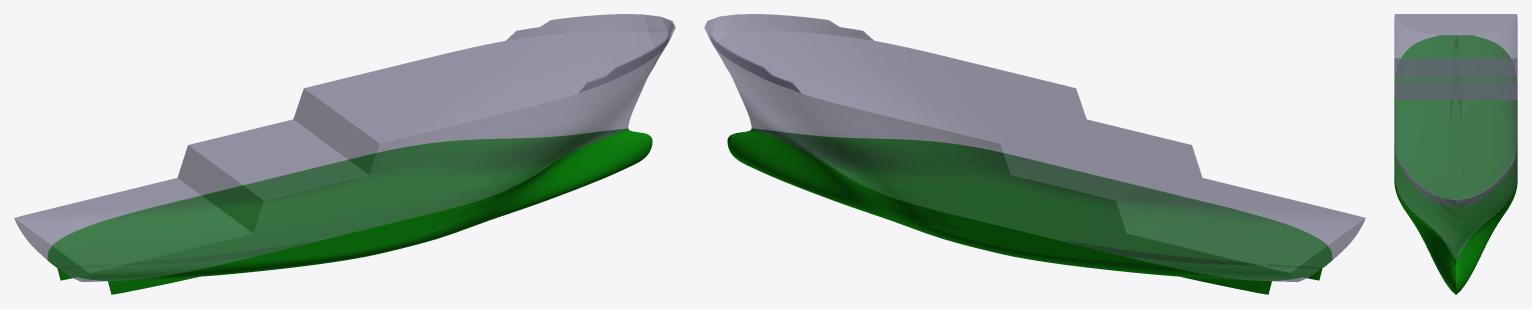
File: OSU Regional Class Research Vessel.obj
3 views of the same model, side by side, from view 1: azimuth 30°, elevation 25°; view 2: azimuth 150°, elevation 25°; view 3: azimuth 270°, elevation 25° (orthographic). The views are drawn at different scales.
Size of the model in its own units: 58.94 by 12.44 by 12.5.
